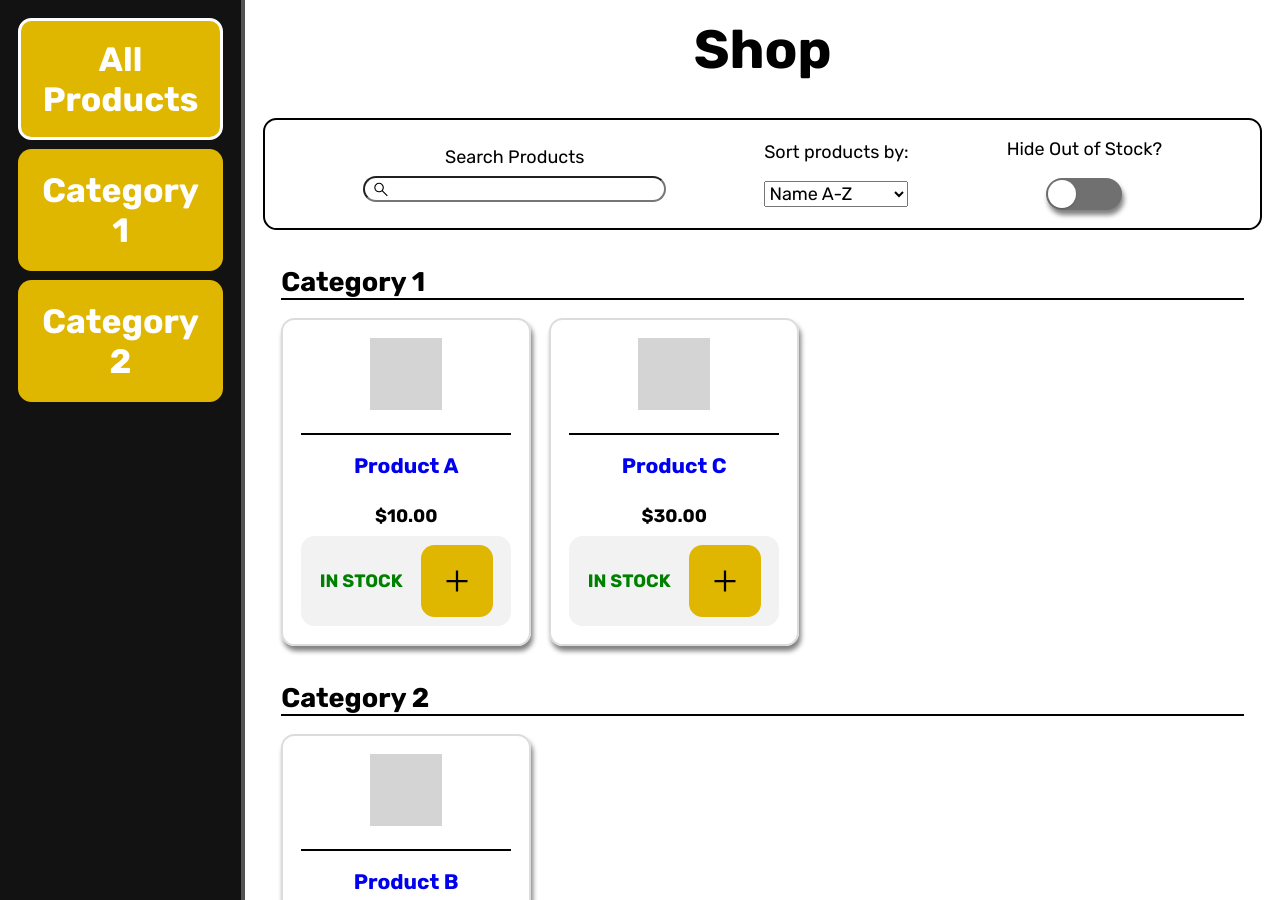
Scenario: Shop component › search works with different case
In the search field: (515, 189) [363, 176, 666, 202], type "a"
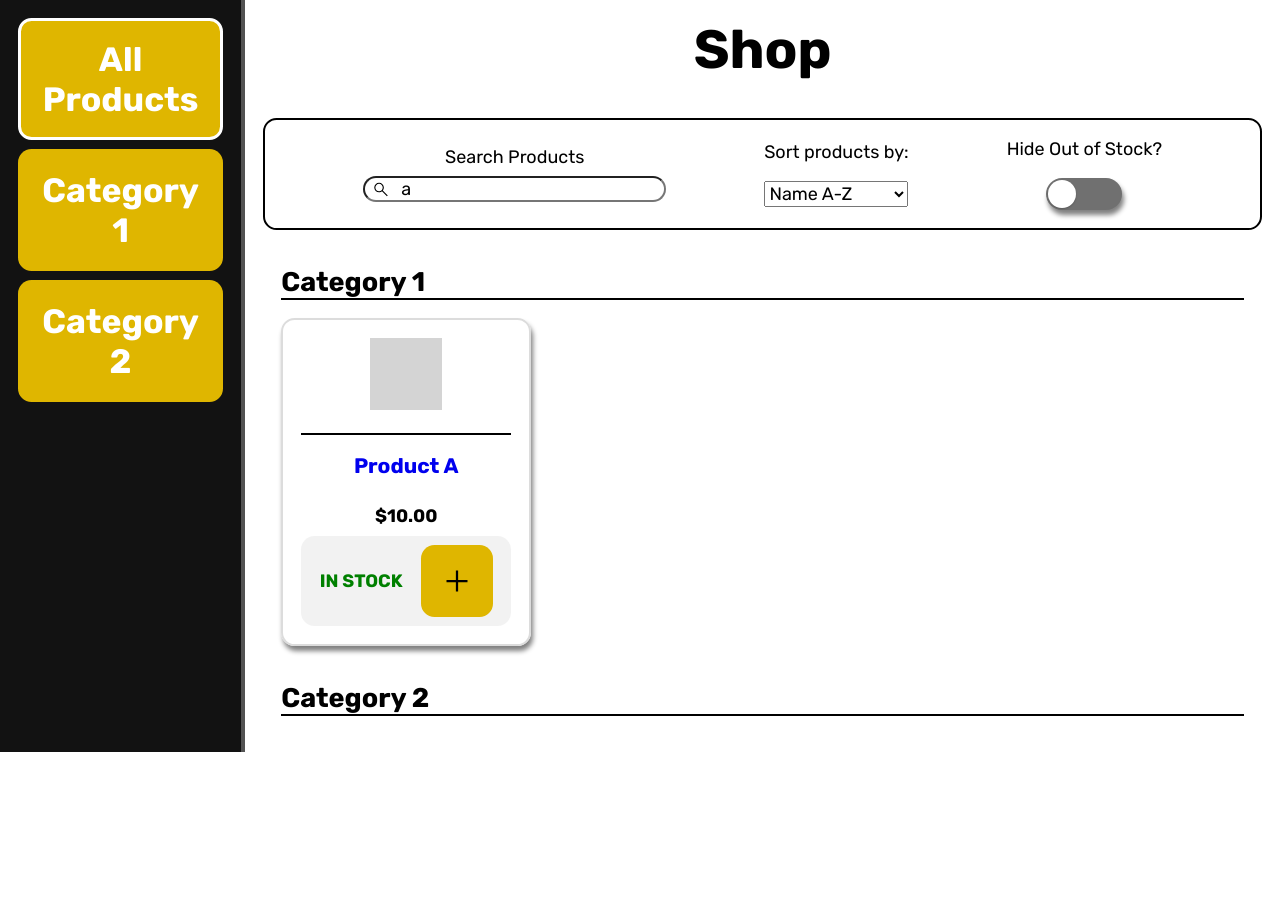
Expected: the heading "Product A" is shown, [301, 433, 511, 496]
Expected: the link "Product C" is gone
